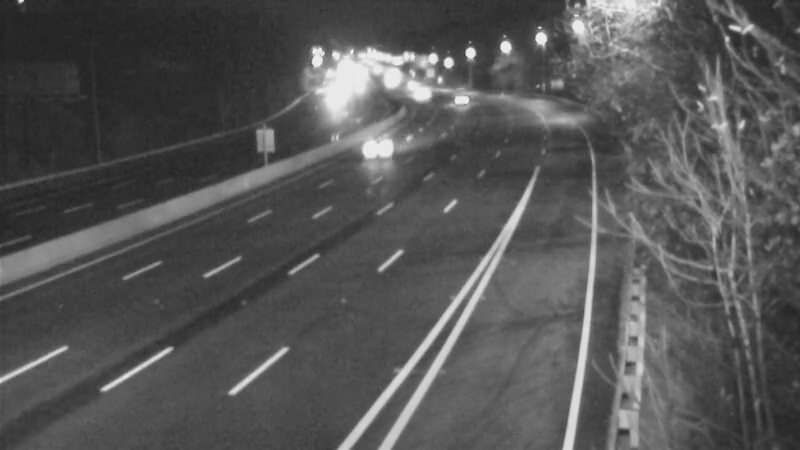vehicle: (388, 68, 438, 118), (429, 74, 479, 124), (351, 121, 401, 171)
